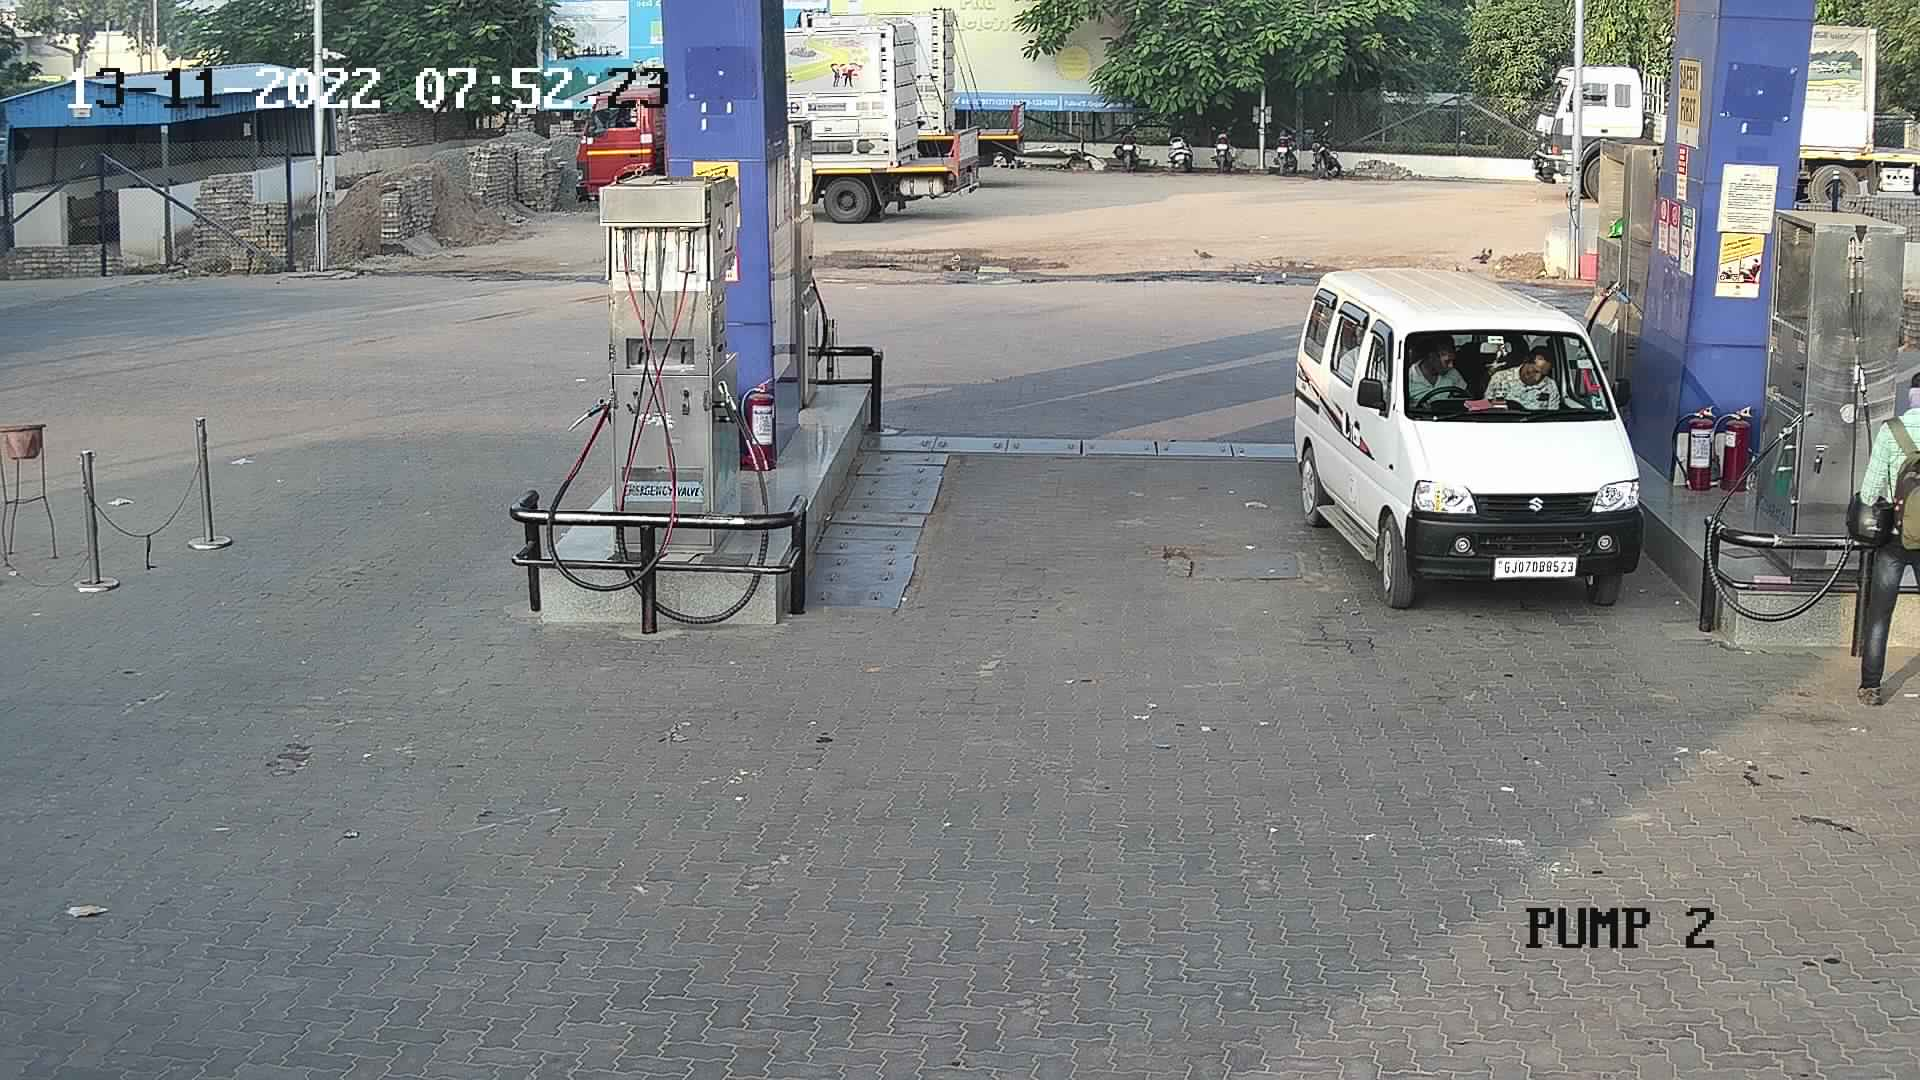Bike: (1300, 116, 1348, 181), (1156, 111, 1203, 177), (1110, 105, 1151, 171), (1207, 111, 1244, 179), (1269, 113, 1302, 173)
Car: (1278, 255, 1655, 605)
HMV: (765, 7, 1002, 233), (789, 1, 1034, 171), (1516, 26, 1680, 206)
